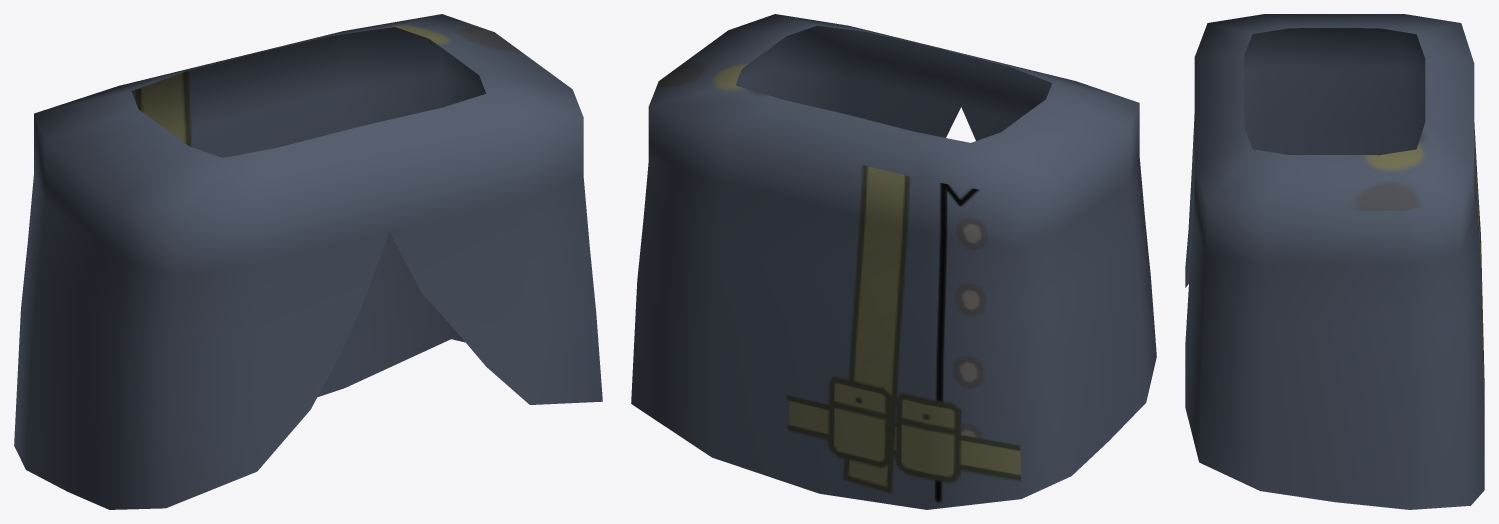
File: coat.fbx
3 views of the same model, side by side, from view 1: azimuth 30°, elevation 25°; view 2: azimuth 150°, elevation 25°; view 3: azimuth 270°, elevation 25° (orthographic). The views are drawn at different scales.
Visible parts, largest first — view 1: Plane.002; view 2: Plane.002; view 3: Plane.002.
Part boxes in pixels (bbox=[...]): Plane.002: bbox=[14, 14, 602, 509]; Plane.002: bbox=[631, 14, 1156, 509]; Plane.002: bbox=[1185, 14, 1484, 509].
Size of the model in its own units: 0.9547 by 0.7581 by 0.5737.
